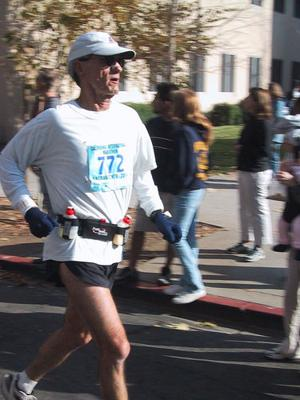person: (1, 30, 182, 400)
